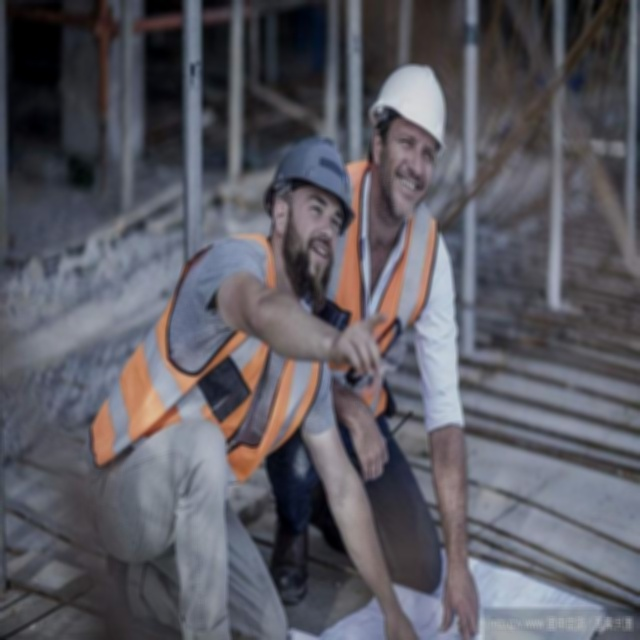Con_Casco: (373, 67, 443, 207)
Con_Chaleco: (81, 257, 326, 468)
